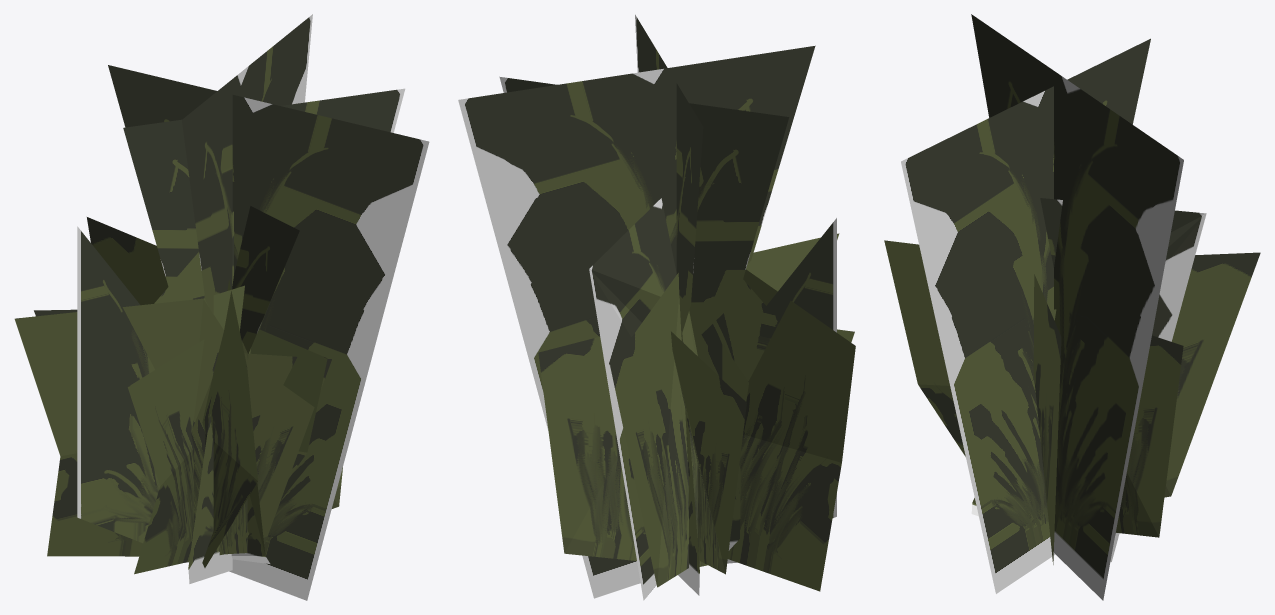
Rendered from shared_green_grass_00.fbx.
3 renders of one model, left to right at view 1: azimuth 30°, elevation 25°; view 2: azimuth 150°, elevation 25°; view 3: azimuth 270°, elevation 25°, orthographic. The views are drawn at different scales.
Visible parts, largest first — view 1: shared_green_grass_00; view 2: shared_green_grass_00; view 3: shared_green_grass_00.
Boxes of the visible parts, bbox=[...] form: shared_green_grass_00: bbox=[14, 14, 429, 600]; shared_green_grass_00: bbox=[458, 14, 855, 600]; shared_green_grass_00: bbox=[884, 14, 1260, 600].
Bounding box in the file's own units: 1.57 × 2.14 × 1.41.
